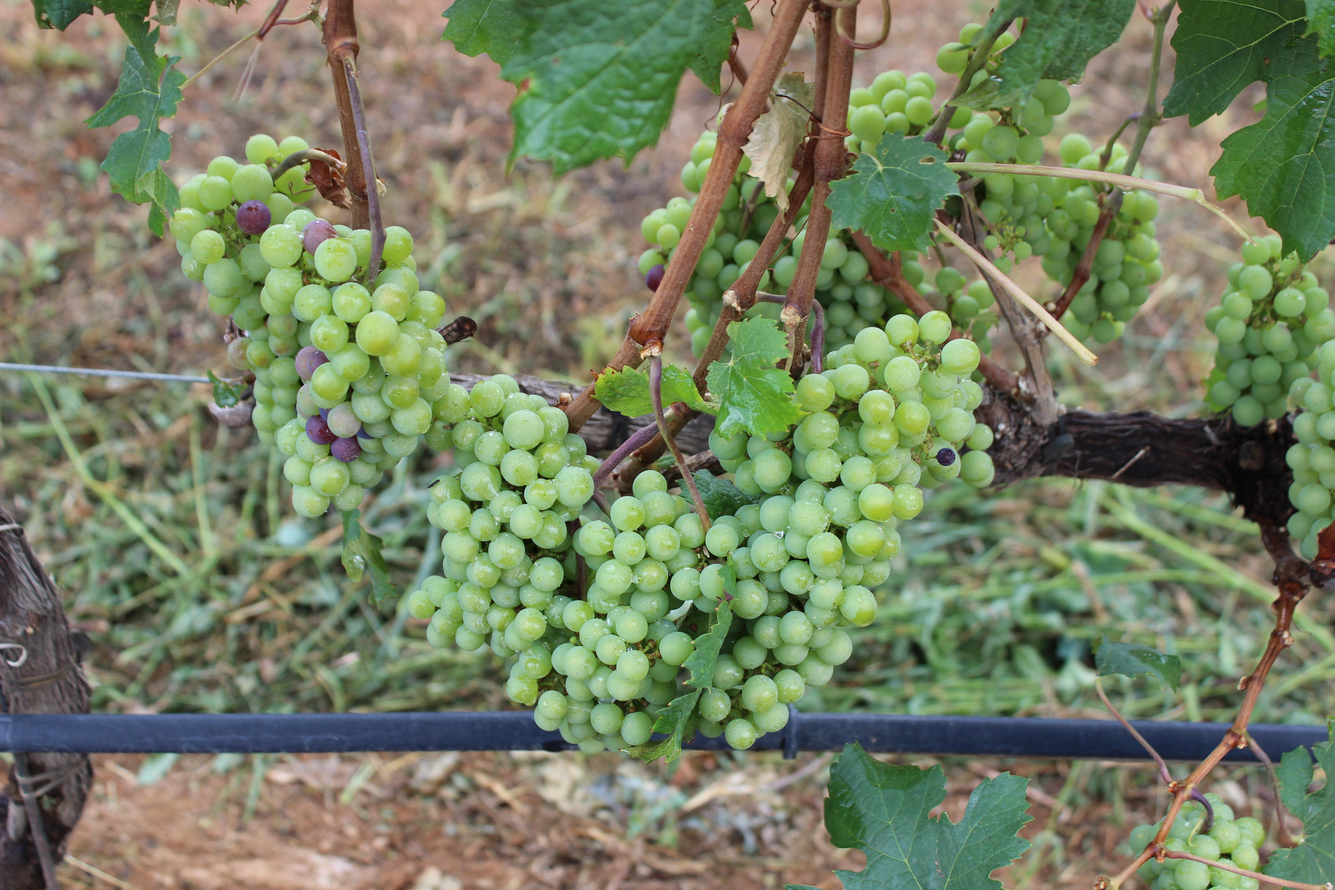leaf: (502, 0, 749, 173), (825, 742, 1030, 889), (1211, 38, 1335, 261), (86, 14, 184, 235), (1163, 0, 1306, 126), (626, 599, 732, 761), (826, 132, 959, 252), (987, 0, 1135, 106), (1261, 721, 1335, 884), (707, 318, 803, 437), (743, 72, 815, 211), (341, 509, 398, 607), (442, 0, 525, 65), (1095, 635, 1182, 689), (693, 469, 759, 518), (595, 367, 653, 417), (661, 364, 716, 414), (1306, 0, 1335, 57), (724, 566, 735, 592), (787, 884, 813, 889), (951, 174, 953, 180), (711, 384, 713, 390), (702, 73, 704, 76), (942, 166, 944, 168), (1220, 195, 1223, 196)
